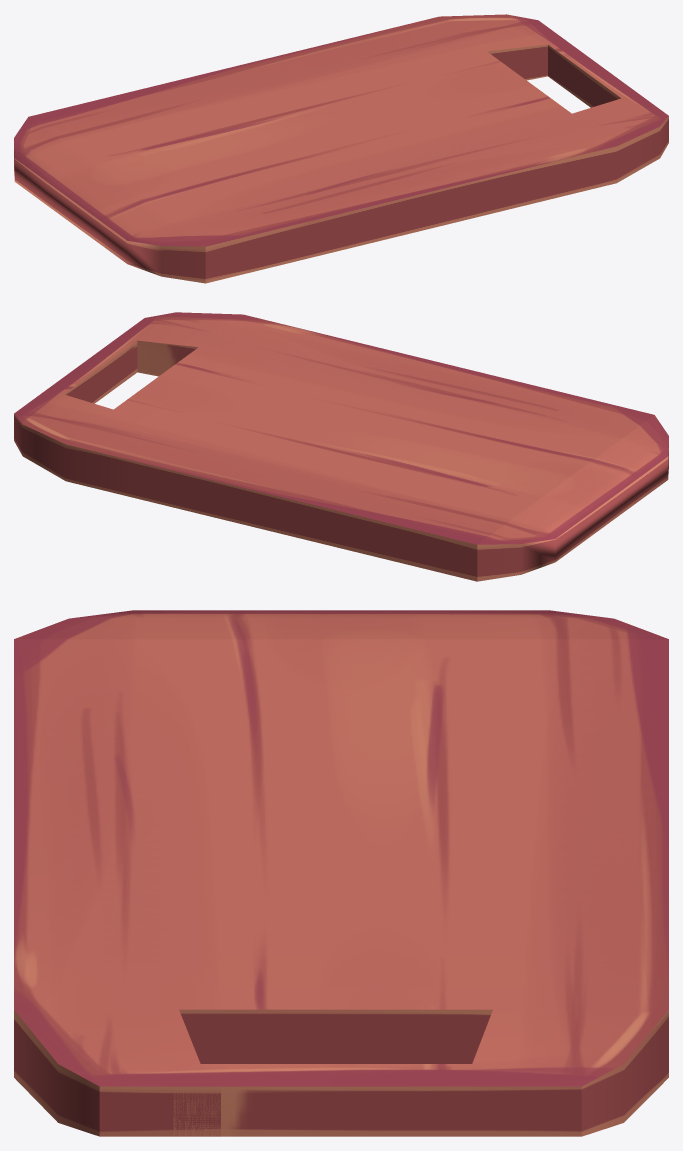
File: cutting boards shump asset.fbx
The picture shows the model from 3 angles, top to bottom: view 1: azimuth 30°, elevation 25°; view 2: azimuth 150°, elevation 25°; view 3: azimuth 270°, elevation 25°; orthographic projection. The views are drawn at different scales.
Visible parts, largest first — view 1: cutting board; view 2: cutting board; view 3: cutting board.
Boxes of the visible parts, x1,y1,x2,y2 form: cutting board: (14,14,668,283); cutting board: (14,312,668,581); cutting board: (14,610,668,1136).
Size of the model in its own units: 240 by 15.91 by 139.
